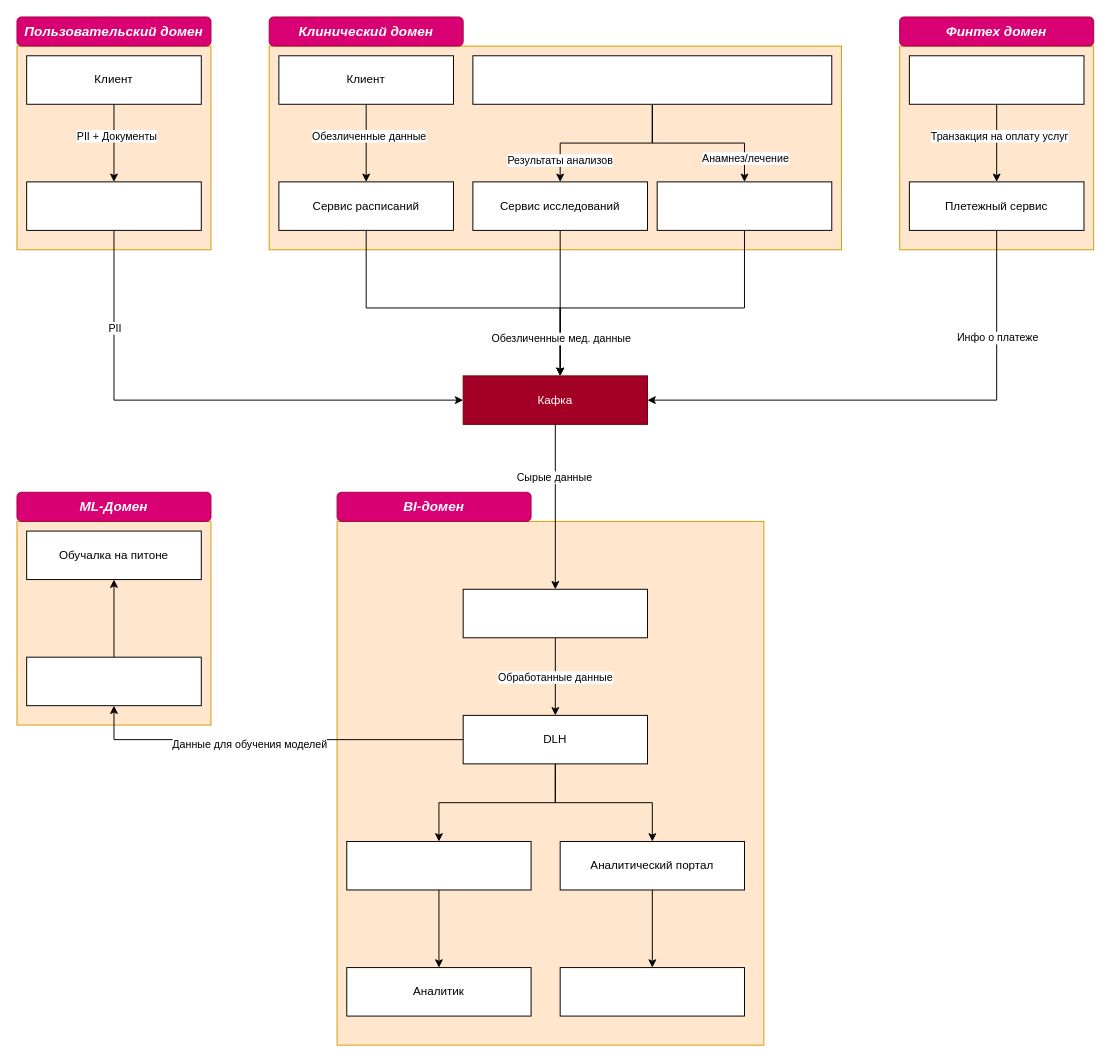
The diagram is 1111 pixels wide and 1062 high, and some of its shapes have lost their labels. The centre of each missing label's shape, as x and y in pixels:
ETL: the point at 554,613
Power BI: the point at 438,865
Врач: the point at 652,79
Личный кабинет: the point at 113,205
ЛПР: the point at 651,991
Сервис мед. карт: the point at 744,205
Сотрудник фронт-офиса: the point at 996,79
Спицеалист по ML: the point at 113,681
